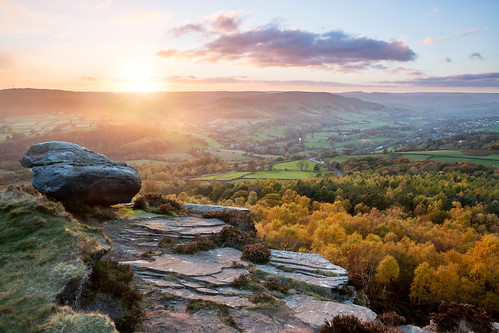rocks: (26, 143, 320, 333)
sky: (11, 3, 499, 84)
sun: (113, 71, 164, 94)
vegetation: (249, 155, 499, 298), (1, 92, 490, 155)
